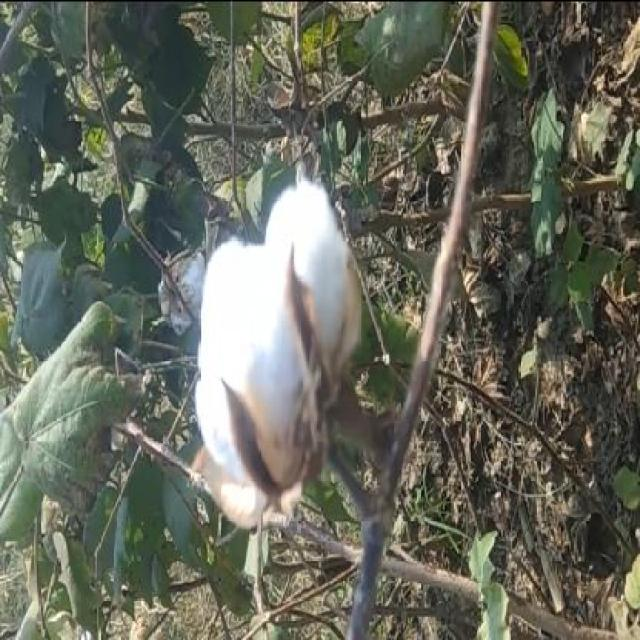cotton_ready: (168, 156, 392, 572)
